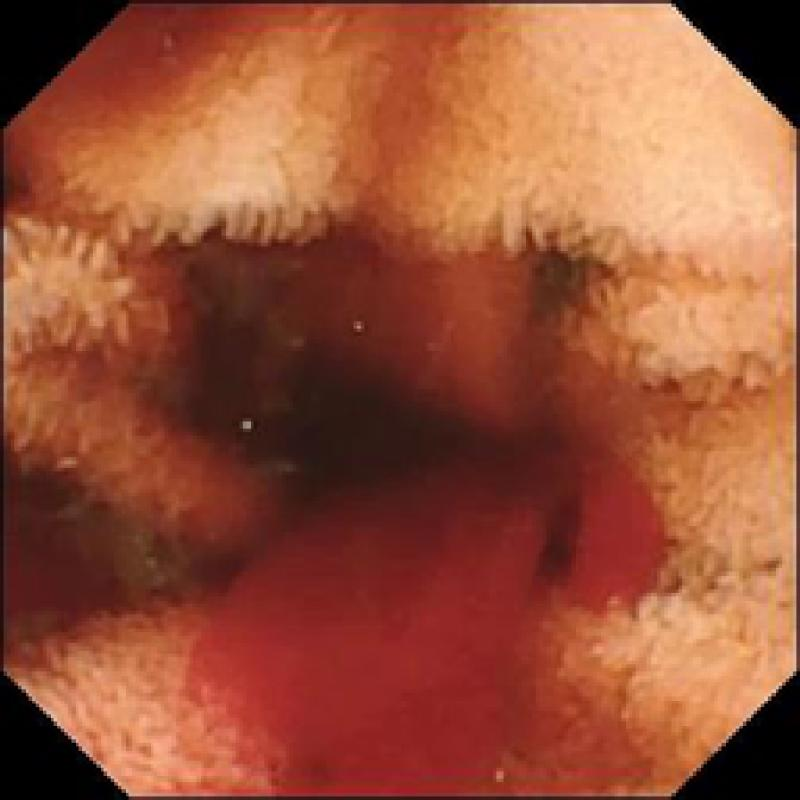bleeding: (182, 425, 657, 800)
